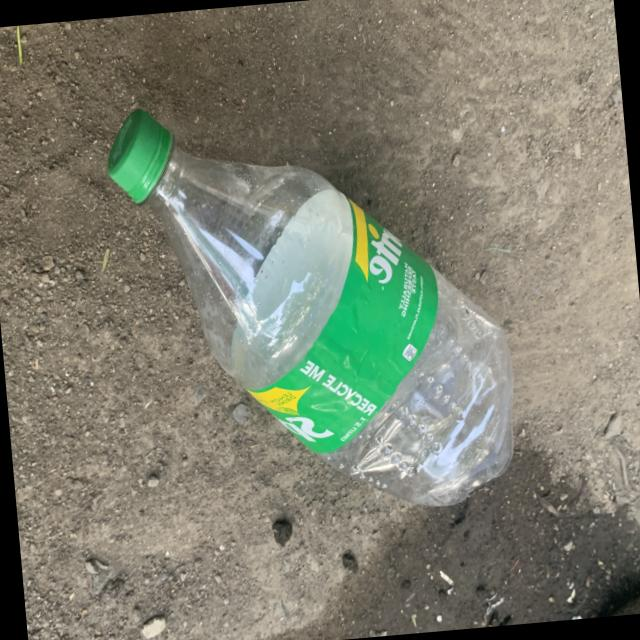Bottle: (106, 109, 512, 506)
